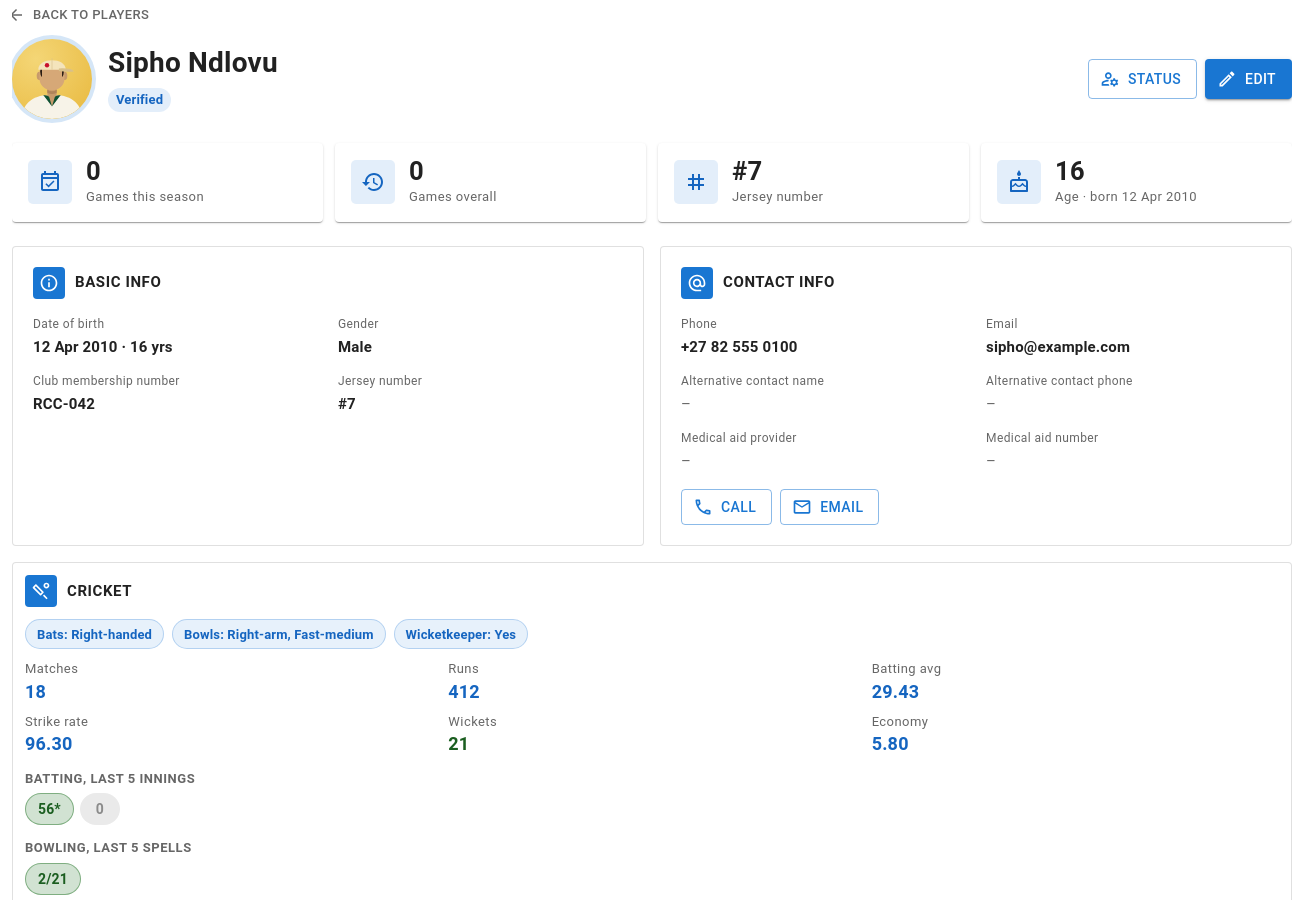
Test: PlayerDetailPage › player status › shows no banner for a verified player, and the Status button offers only Suspend
Check: the heading "Sipho Ndlovu" is shown, box [108,46,278,80]
What coordinates should you click on to do the following:
click the button "Status"
I would click on:
 (1142, 79)
Its box is [1088,59,1197,99].
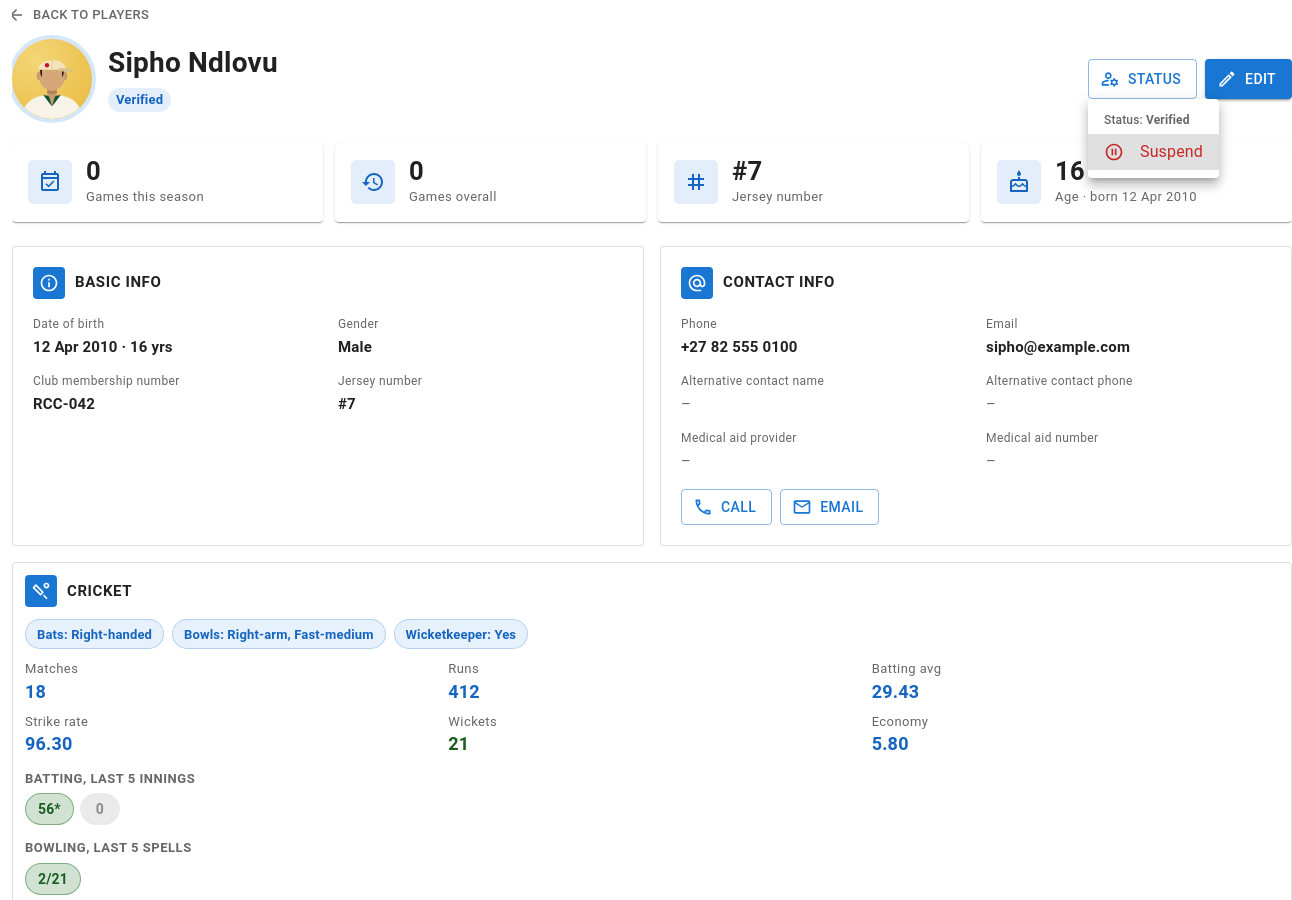
Check: the menu items read "Suspend", in this order, box [1088,134,1219,170]
